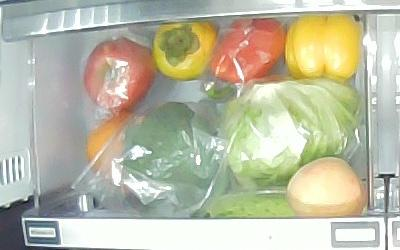apple_vinyl: (83, 37, 155, 110)
broccoli_vinyl: (124, 102, 233, 218)
lettuce_vinyl: (223, 77, 361, 186)
paprika: (283, 13, 361, 79)
paprika_vinyl: (212, 17, 285, 81)
peach: (287, 157, 364, 217)
persimmon: (153, 21, 220, 81)
